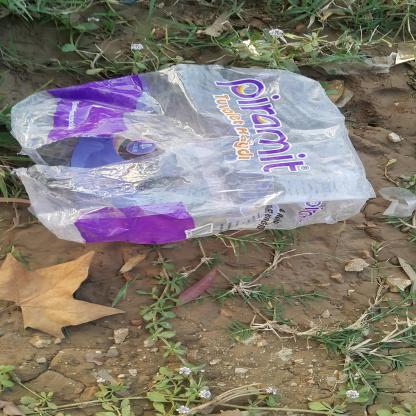Other plastic: (390, 42, 415, 67), (241, 39, 264, 57)
Plastic film: (9, 63, 376, 244), (303, 56, 394, 75), (378, 187, 416, 217)
